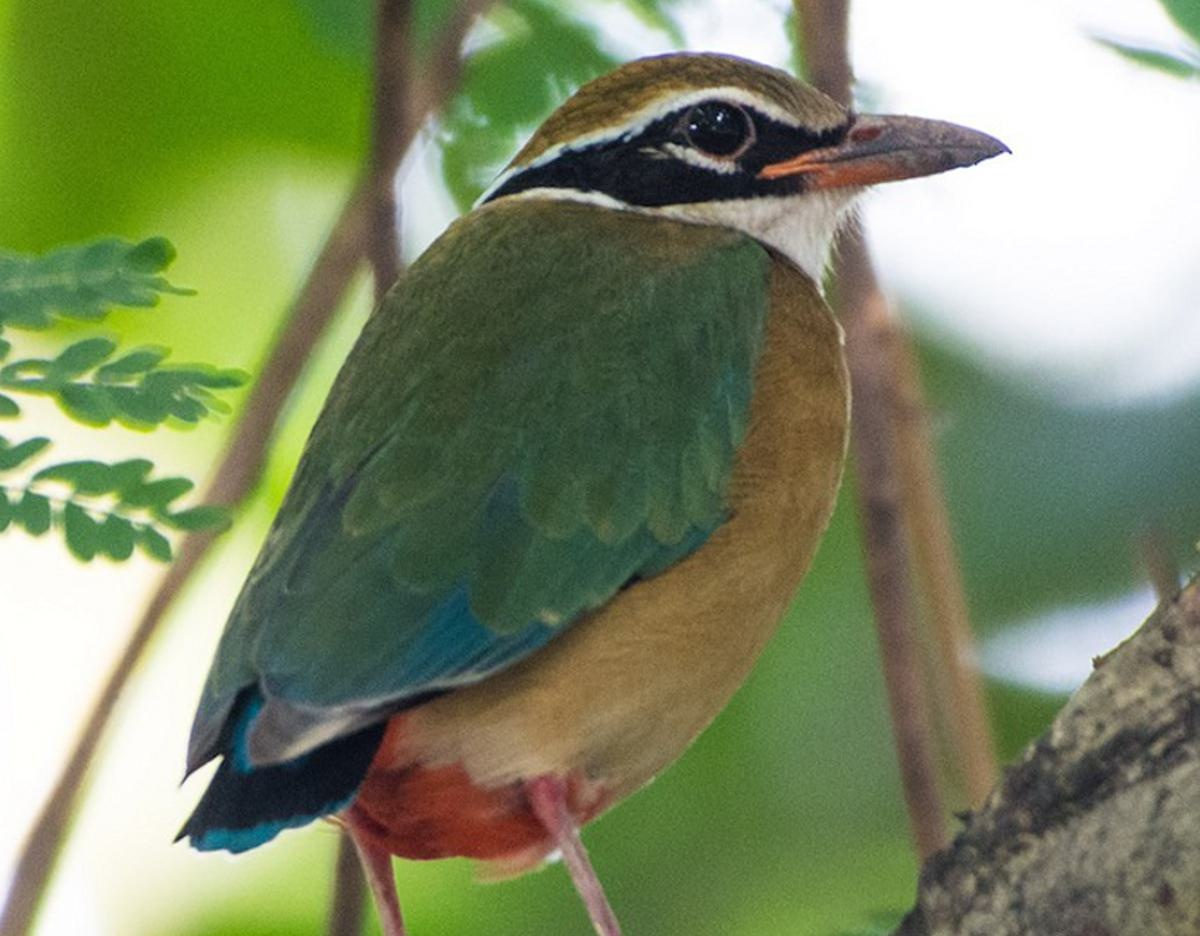pitta: (239, 62, 1010, 919)
